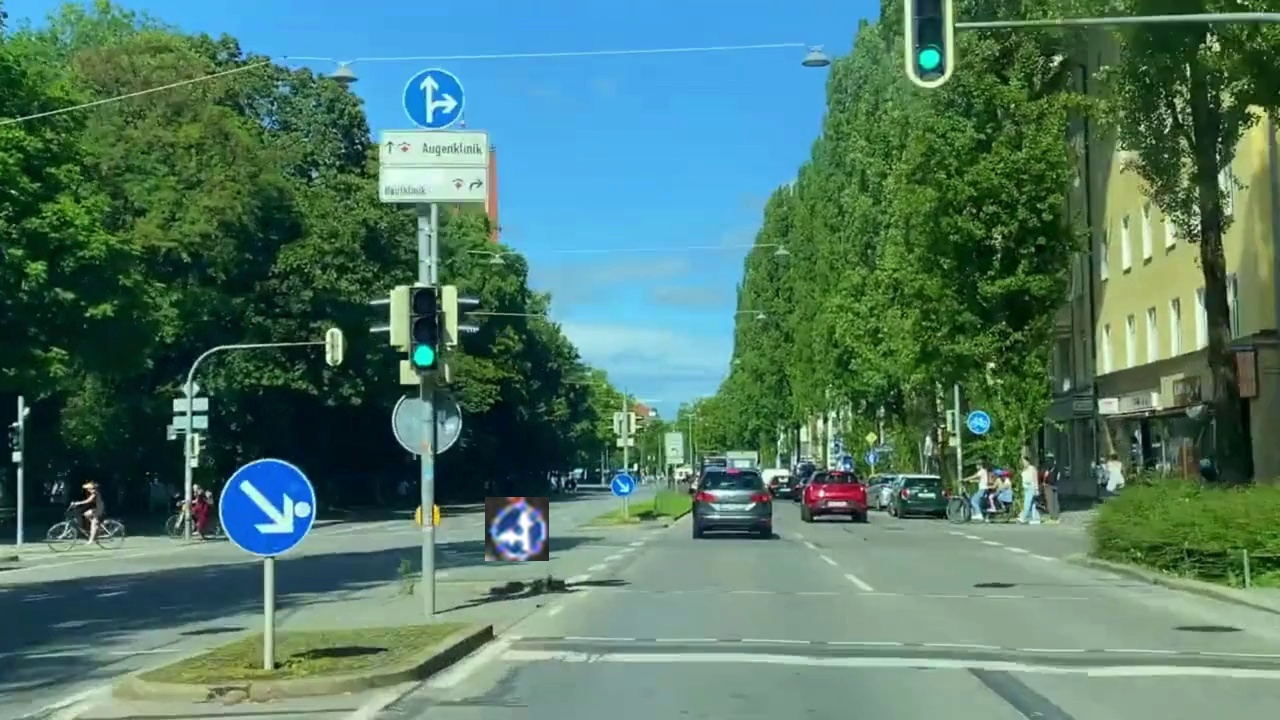Straight/left: (485, 497, 549, 561)
